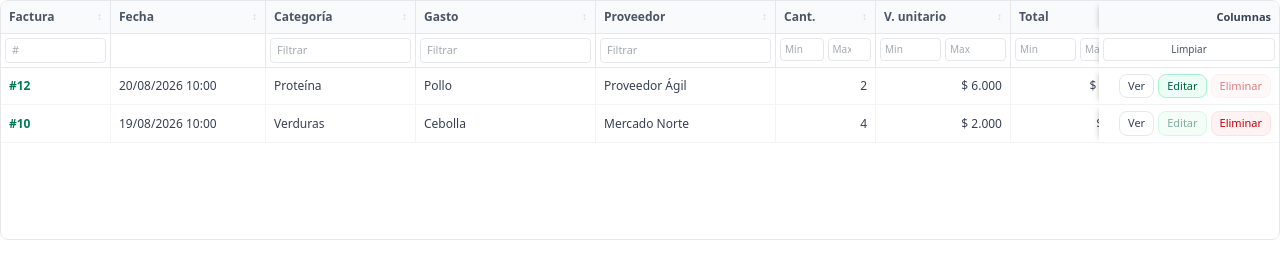
ExpenseDetailsTable › filtra en memoria, recalcula el resumen y muestra el estado vacío
The image size is (1280, 257).
Type "proteina" into the 1st search field with placeholder "Filtrar".
click(340, 50); type("proteina")  # box [270,38,411,63]
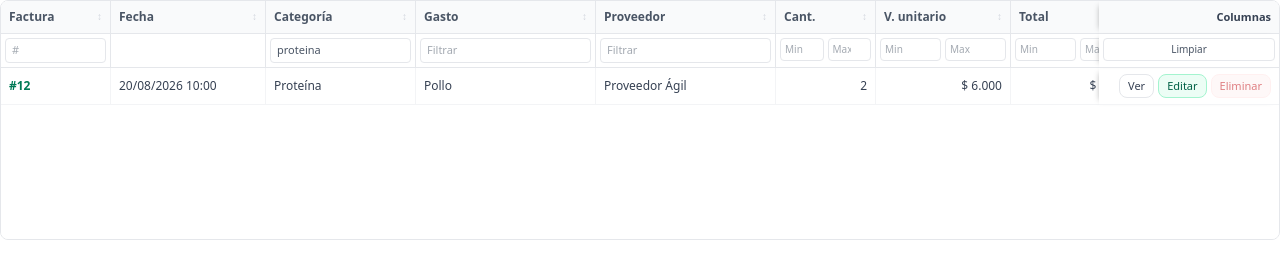
Expected: the text "Pollo" is shown, [424,77,452,94]
Expected: the text "Cebolla" is gone
Replace the text in the 1st search field with "inexistente" at (340, 50), box [270,38,411,63]
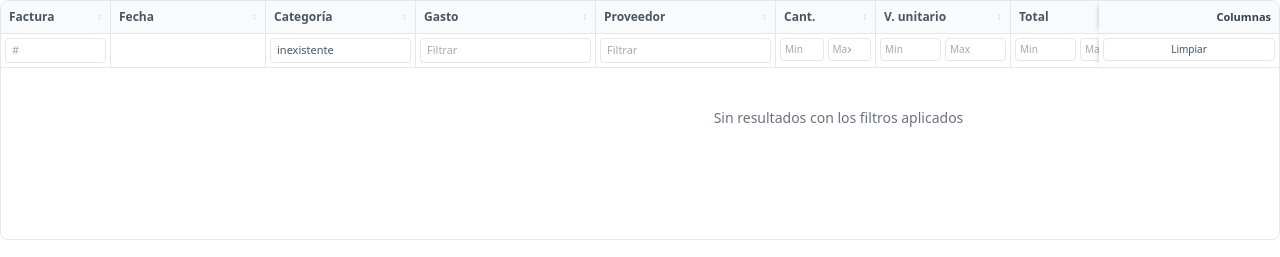
Expected: the text "Sin resultados con los filtros aplicados" is shown, [1,68,1279,168]
